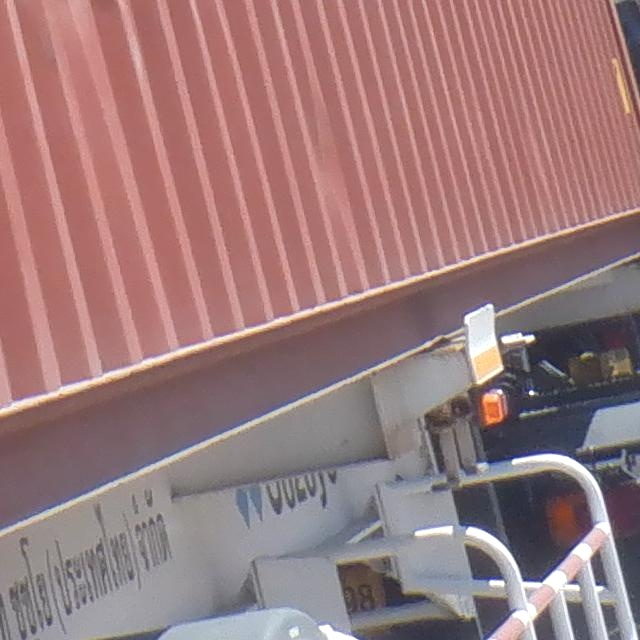Dent: (305, 111, 370, 220)
